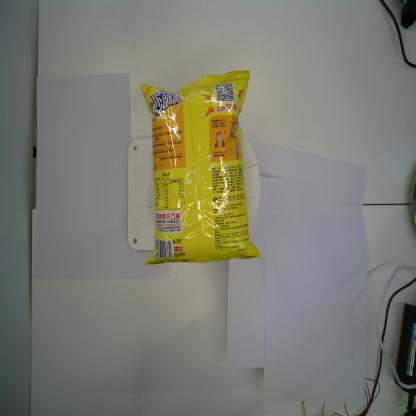Puffed Food: (137, 68, 263, 268)
